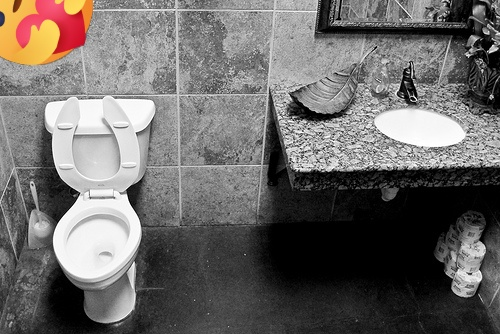care: (0, 0, 93, 65)
